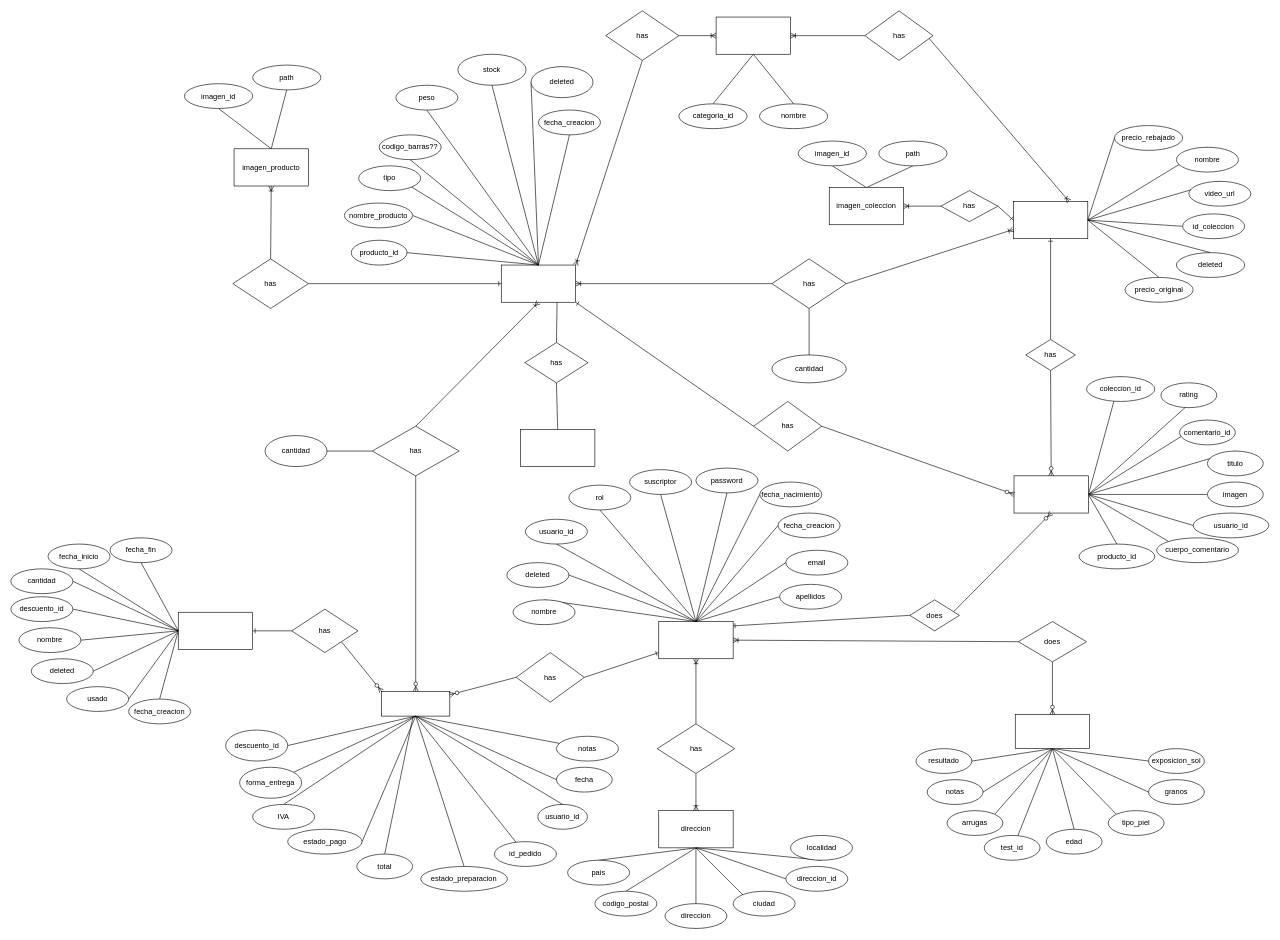
Some shapes in this 1280 by 940 pixel diagram are drawn without their labels. The centre of each missing label's shape, as x and y in pixels:
"categoria" goes at point 752,35.
"coleccion" goes at point 1050,220.
"comentarios" goes at point 1050,494.
"descuento" goes at point 215,630.
"pedido" goes at point 415,703.
"producto" goes at point 538,283.
"proveedor" goes at point 557,448.
"test_piel" goes at point 1052,731.
"usuario" goes at point 695,640.
